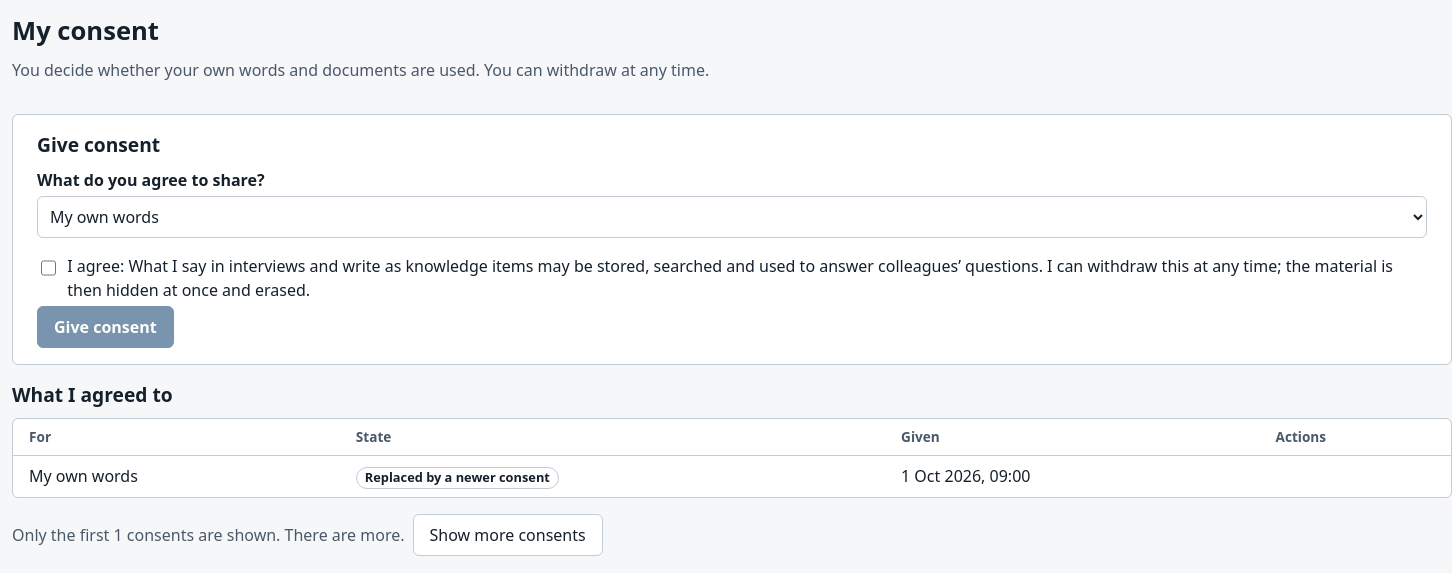
Test case: lists that used to stop at one page › my consents: the next page is fetched with the cursor
Click the button "Show more consents": (508, 535) 412,514 -> 603,556
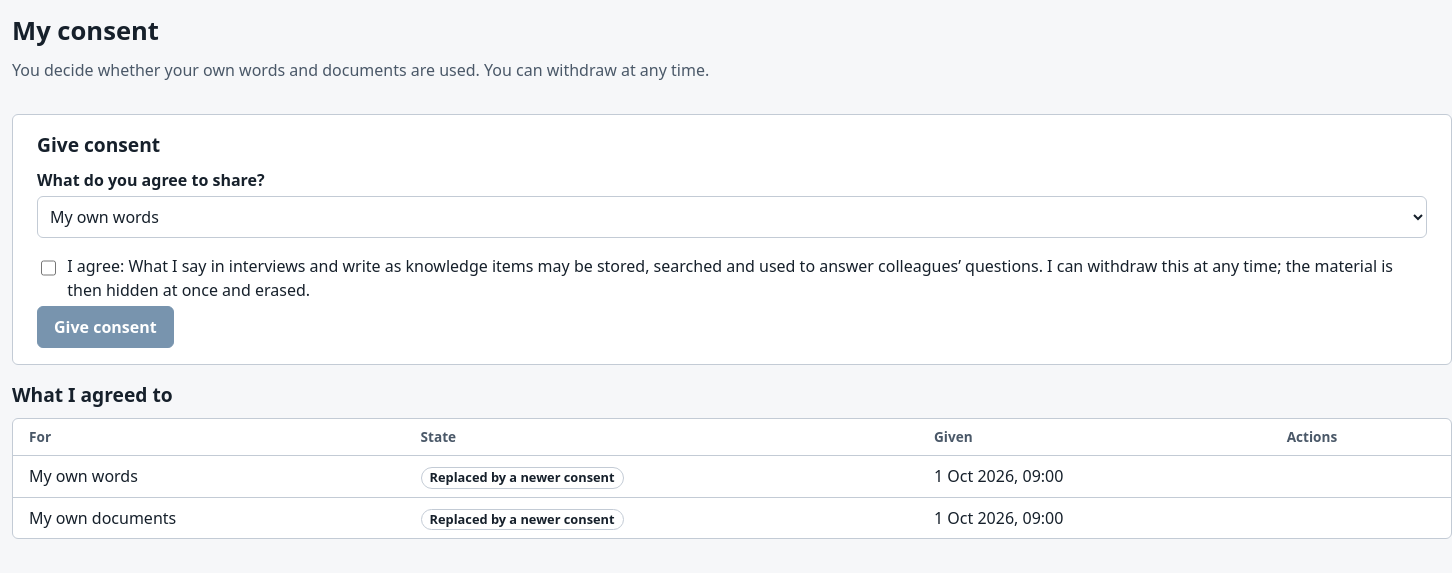
Check: the number of rows is 3, box 13,419 -> 1451,456; 13,456 -> 1451,497; 13,497 -> 1451,538
